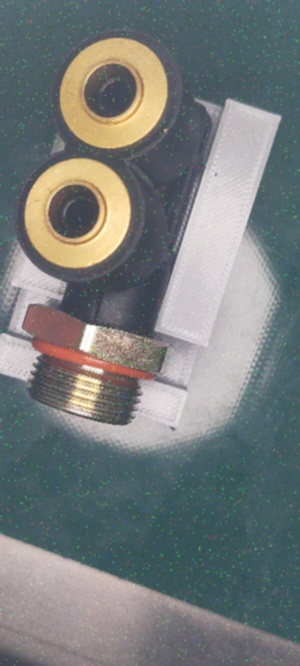craze: (89, 292, 110, 325)
